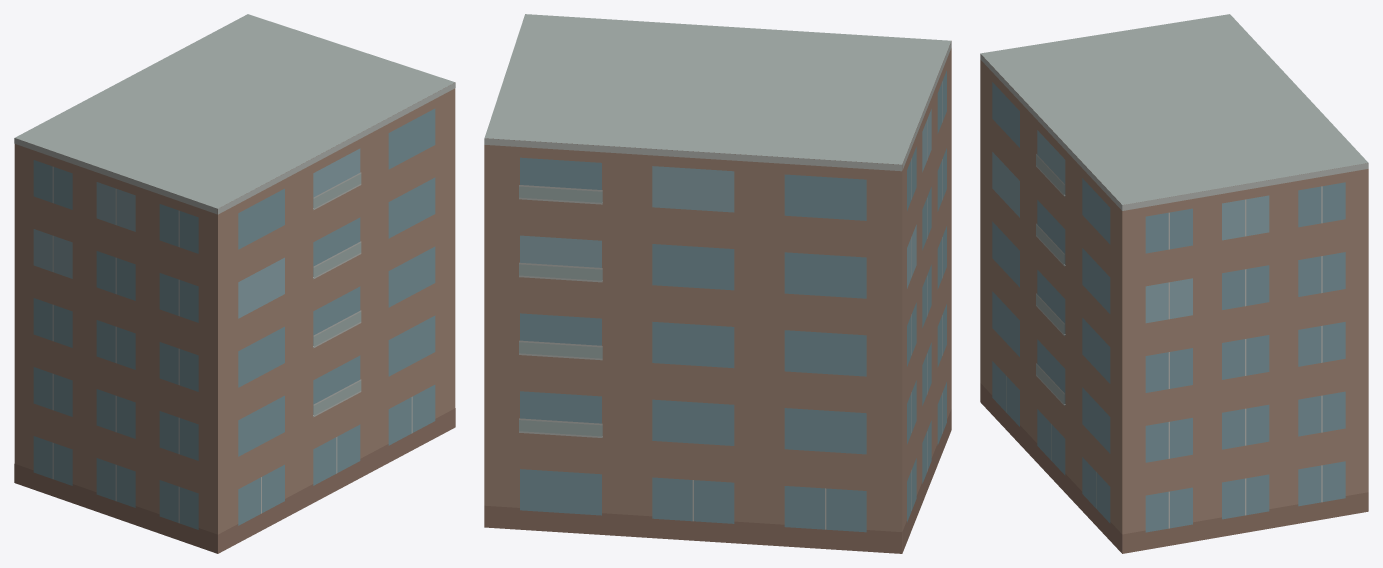
Rendered from survey-upis-32863205.glb.
3 views of the same model, side by side, from view 1: azimuth 30°, elevation 25°; view 2: azimuth 150°, elevation 25°; view 3: azimuth 270°, elevation 25° (orthographic). The views are drawn at different scales.
Parts seen in each view (by area): view 1: survey-upis-32863205.tmp; view 2: survey-upis-32863205.tmp; view 3: survey-upis-32863205.tmp.
Boxes of the visible parts, <box> form: survey-upis-32863205.tmp: <box>14,14,455,553</box>; survey-upis-32863205.tmp: <box>484,14,951,553</box>; survey-upis-32863205.tmp: <box>980,14,1368,553</box>.
Bounding box in the file's own units: 16.88 × 14.35 × 14.49.
